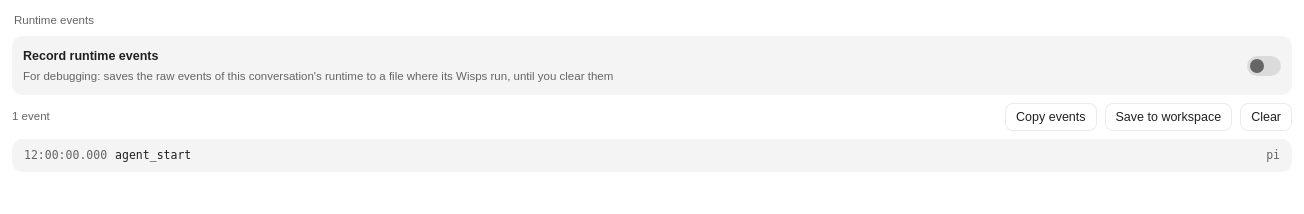
Test: RuntimeEventsSection › saves the events to the workspace and clears them
Click the button "Save to workspace": (1168, 117) [1104,103,1232,131]
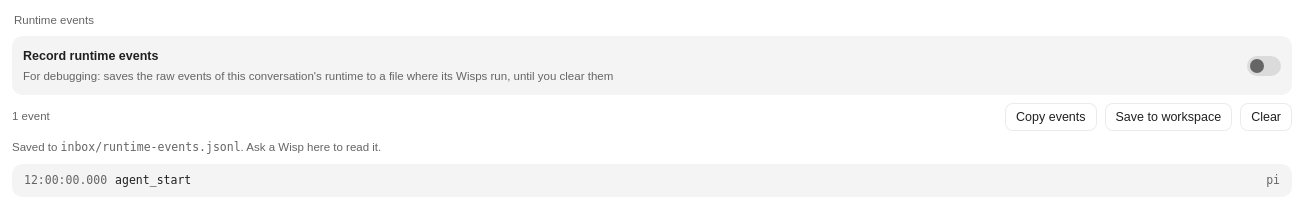
Expected: the text "inbox/runtime-events.jsonl" is shown, [61,140,241,154]
Click the button "Clear": (1266, 117) [1240,103,1292,131]
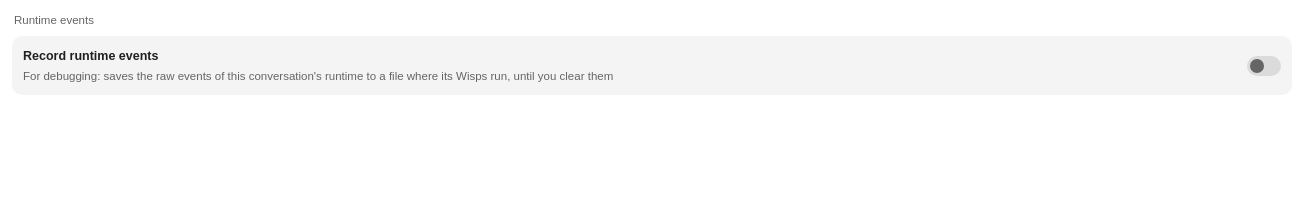
Expected: the text "inbox/runtime-events.jsonl" is gone
